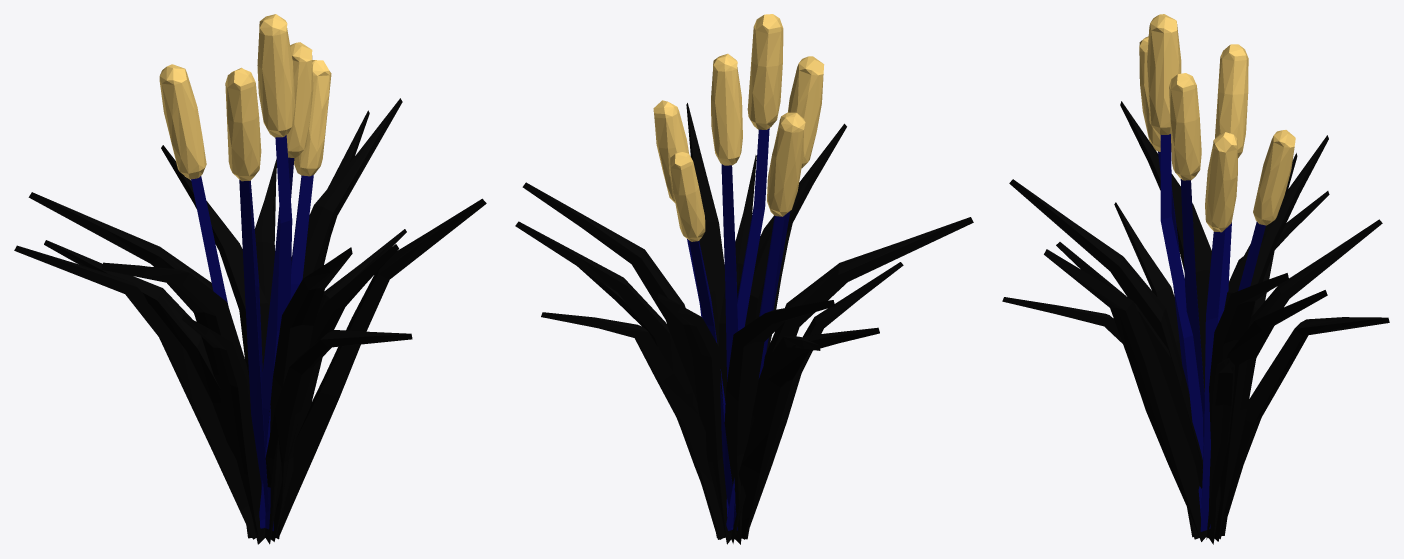
The model's file is PatchReed05.fbx.
3 renders of one model, left to right at view 1: azimuth 30°, elevation 25°; view 2: azimuth 150°, elevation 25°; view 3: azimuth 270°, elevation 25°, orthographic. The views are drawn at different scales.
Parts seen in each view (by area): view 1: Reed05; view 2: Reed05; view 3: Reed05.
Boxes of the visible parts, left/top/right/bottom form: Reed05: left=14, top=14, right=486, bottom=544; Reed05: left=515, top=14, right=973, bottom=544; Reed05: left=1002, top=14, right=1389, bottom=544.
Size of the model in its own units: 106 by 142 by 96.25.
